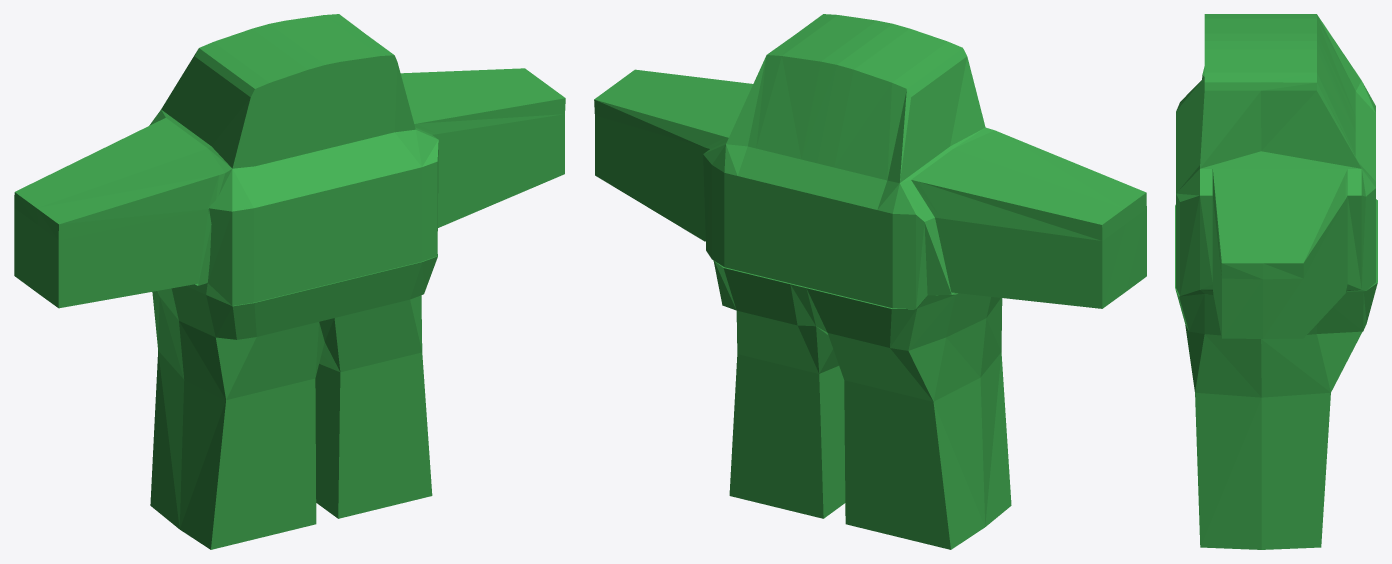
Rendered from swamp_alien_npc.fbx.
3 renders of one model, left to right at view 1: azimuth 30°, elevation 25°; view 2: azimuth 150°, elevation 25°; view 3: azimuth 270°, elevation 25°, orthographic.
Visible parts, largest first — view 1: pCube1; view 2: pCube1; view 3: pCube1.
Part boxes in pixels (x1,y1,x2,y2): pCube1: [14, 14, 565, 549]; pCube1: [594, 14, 1146, 549]; pCube1: [1175, 14, 1377, 549].
Bounding box in the file's own units: 2.9 × 2.47 × 0.9981.
